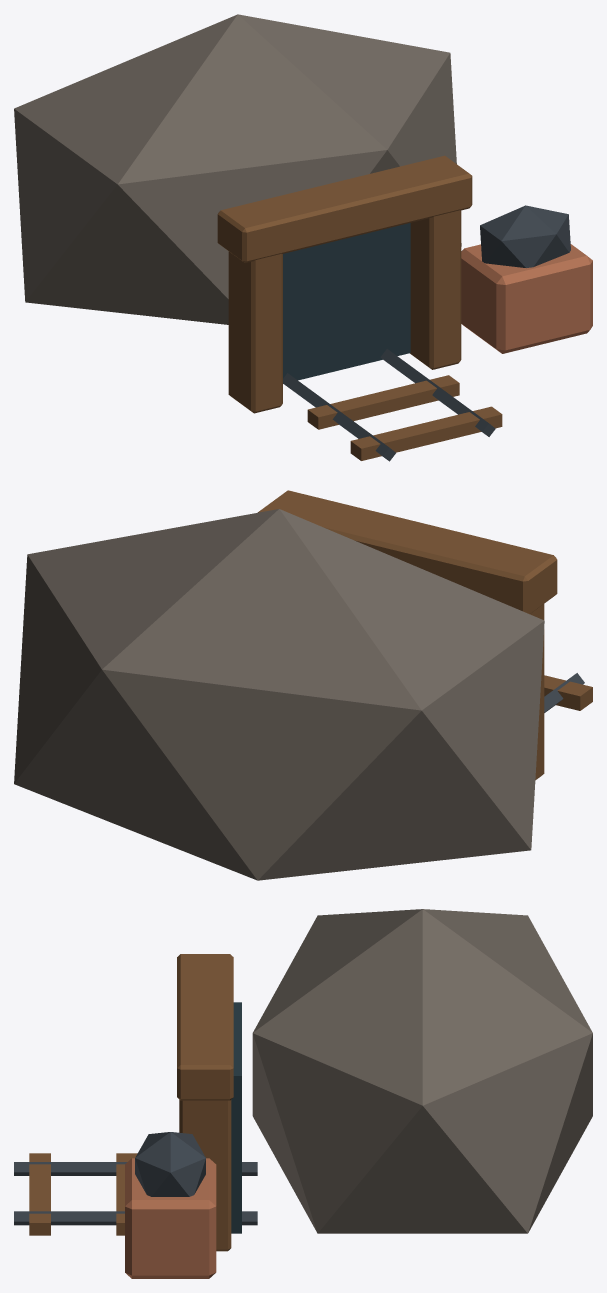
Rendered from imp_mine.glb.
3 views of the same model, one above another, from view 1: azimuth 30°, elevation 25°; view 2: azimuth 150°, elevation 25°; view 3: azimuth 270°, elevation 25° (orthographic). The views are drawn at different scales.
Parts seen in each view (by area): view 1: imp_mine; view 2: imp_mine; view 3: imp_mine.
Part boxes in pixels (left/top/right/bottom): imp_mine: left=14, top=14, right=592, bottom=461; imp_mine: left=14, top=490, right=592, bottom=880; imp_mine: left=14, top=909, right=592, bottom=1278.
Size of the model in its own units: 0.5724 by 0.37 by 0.6656.
